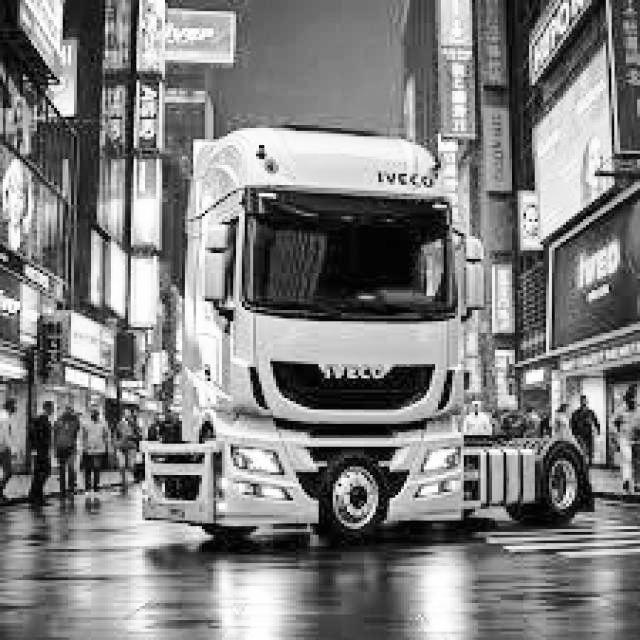Truck: (137, 123, 595, 544)
